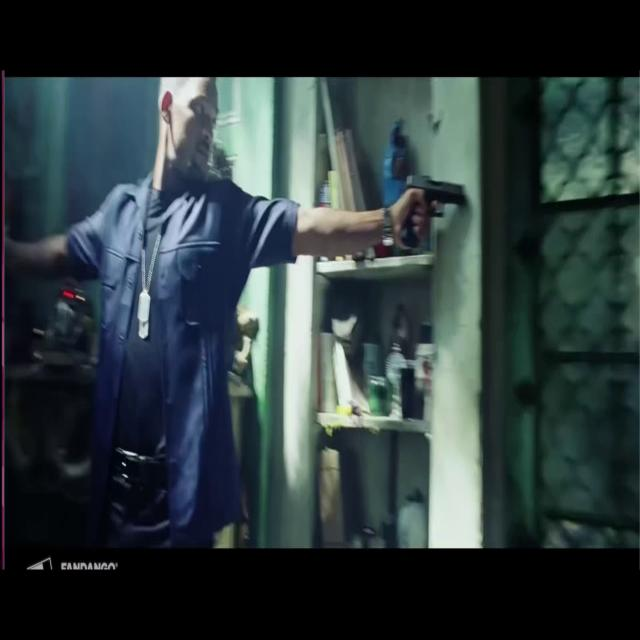weapons: (388, 160, 472, 256)
